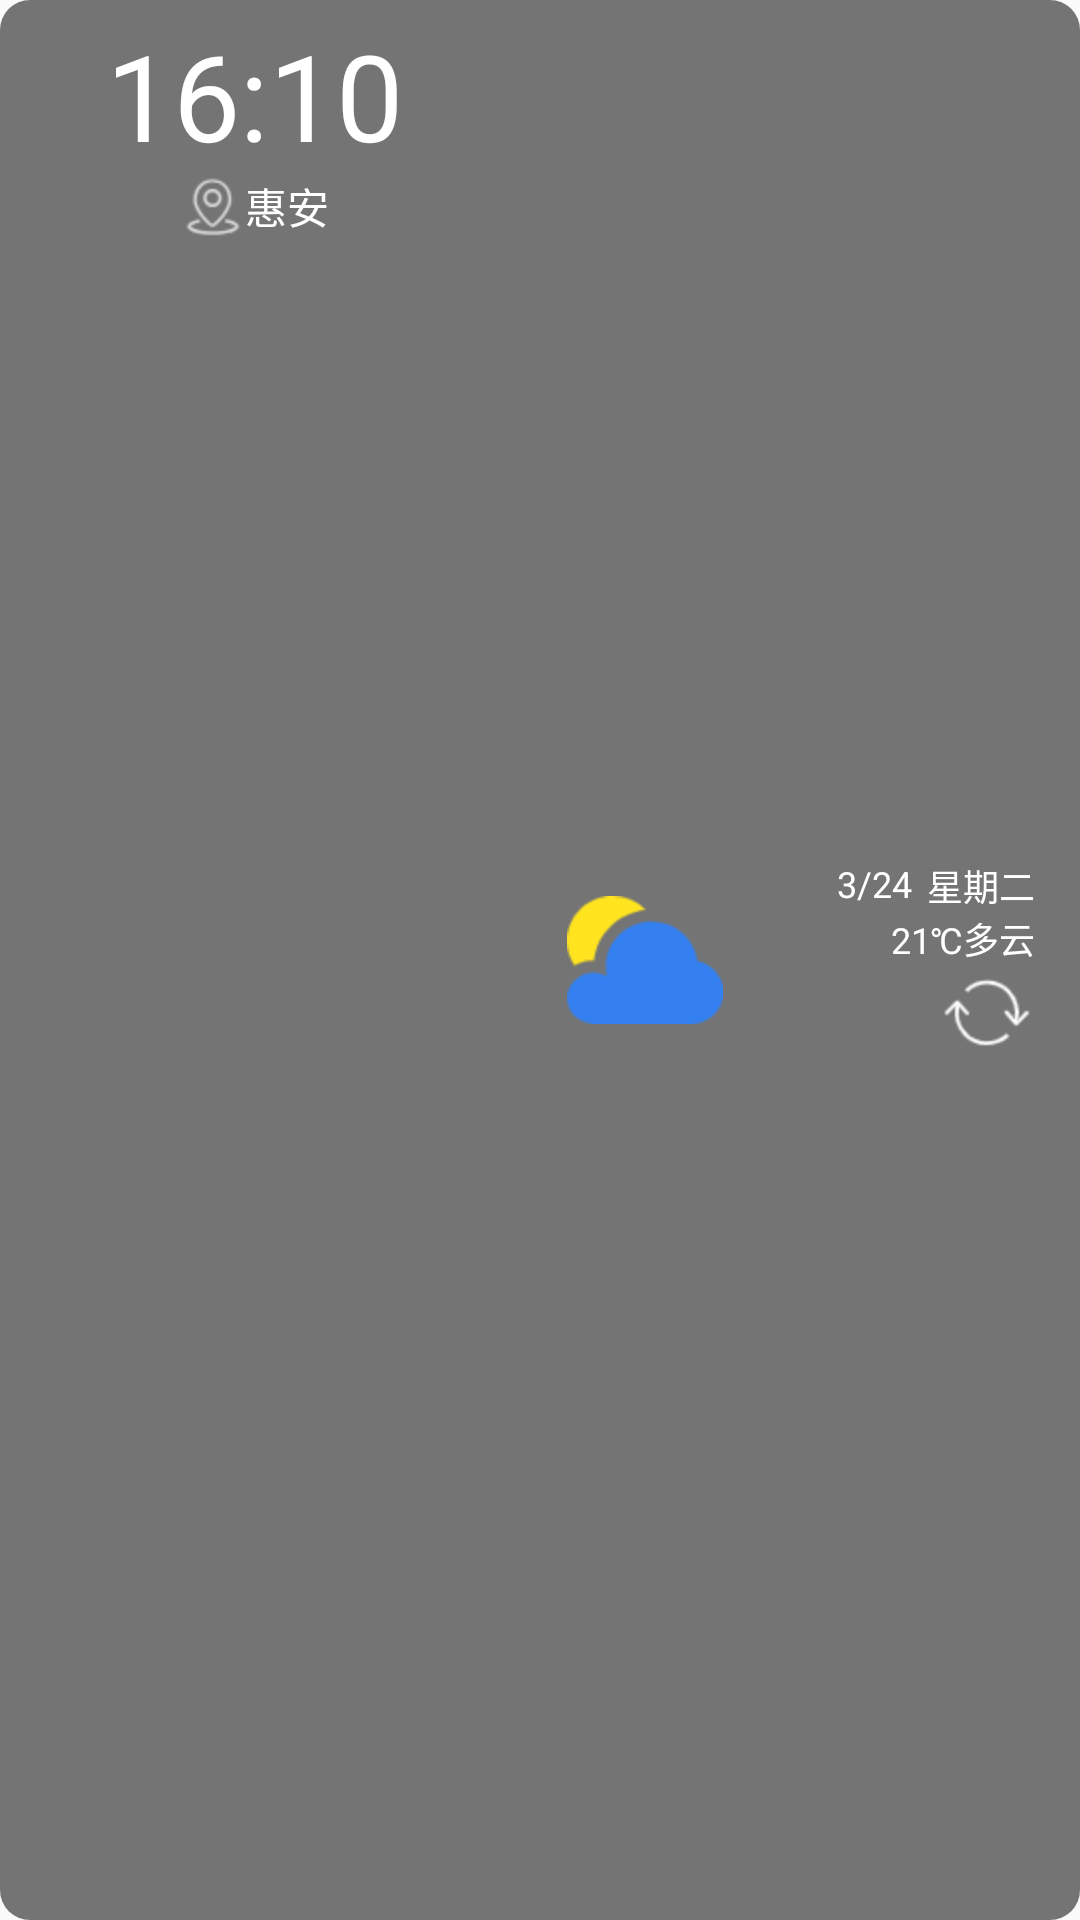

Screen size 1080×1920. Icon name, then its center in pixels as (x,y):
address: (213,207)
refresh: (986,1013)
weather cloudy: (645,960)
